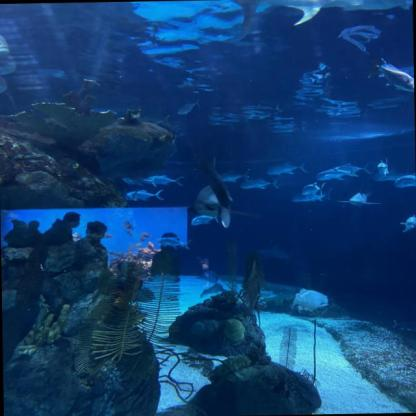fish: (218, 0, 409, 40), (367, 54, 414, 94), (290, 288, 328, 311), (316, 167, 357, 181), (144, 174, 184, 188), (267, 161, 306, 175), (155, 236, 193, 250), (124, 188, 162, 202), (240, 177, 278, 190), (333, 162, 371, 175), (293, 190, 331, 202), (121, 176, 158, 187), (178, 98, 200, 115), (217, 171, 248, 183), (190, 213, 218, 226), (395, 172, 415, 189), (400, 214, 415, 233), (302, 182, 324, 194), (377, 158, 389, 177), (122, 220, 136, 231), (140, 232, 153, 237), (126, 229, 132, 236), (103, 234, 113, 238), (139, 237, 146, 241), (135, 243, 141, 247)
shark: (183, 160, 251, 228), (338, 182, 380, 207), (257, 243, 295, 262), (200, 282, 224, 298)
stingray: (388, 319, 415, 336)
